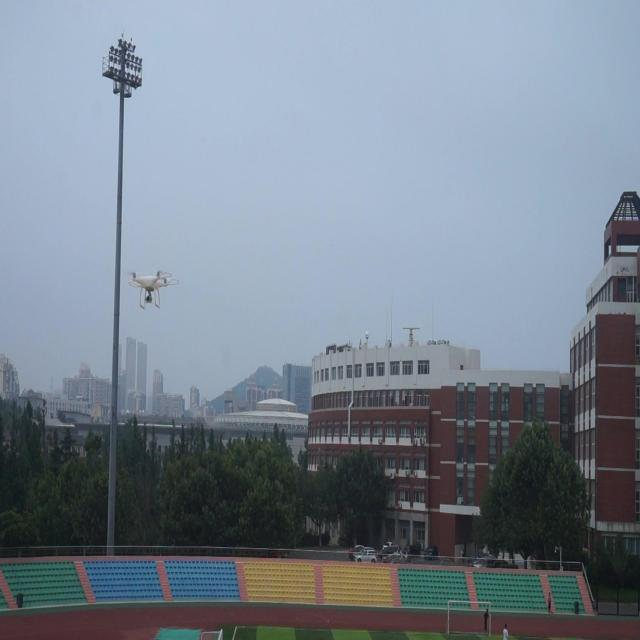UAV: (128, 268, 179, 310)
